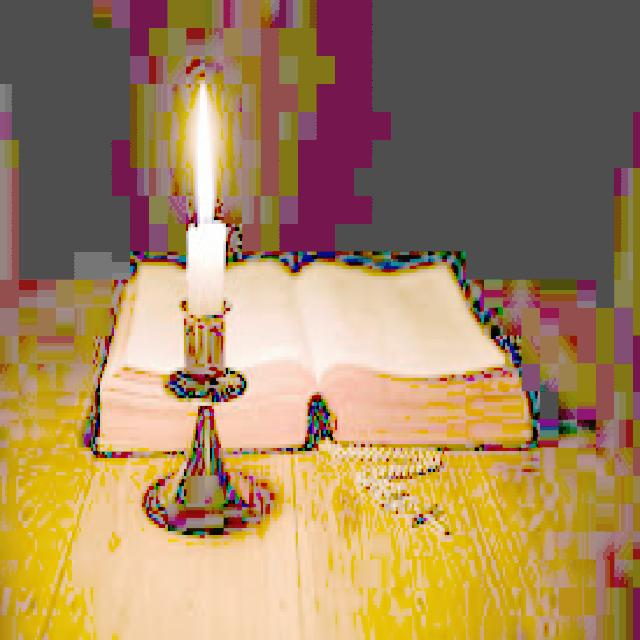api: (176, 71, 236, 225)
